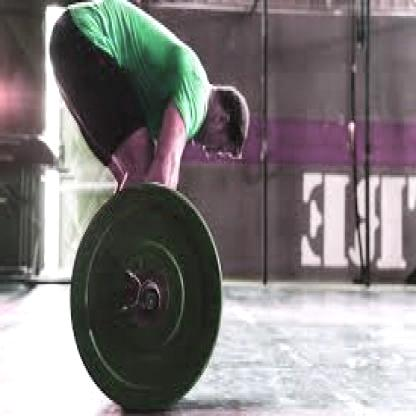Barbell: (135, 278, 161, 321)
